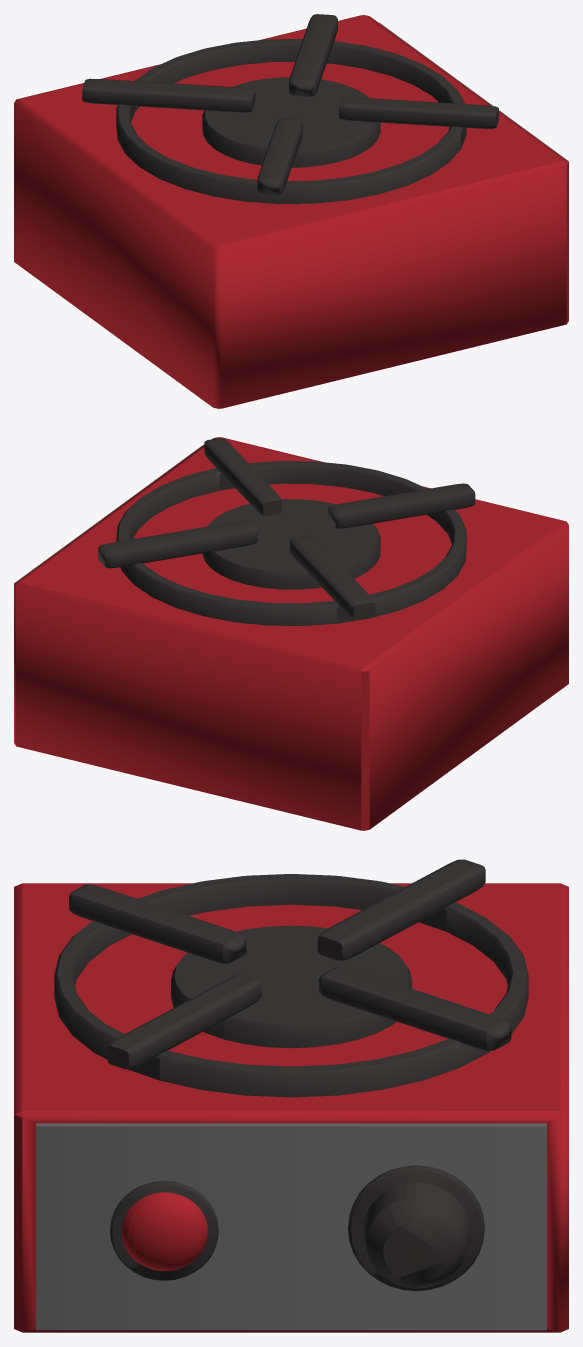
File: M6BO_Model_Stove.fbx
3 renders of one model, top to bottom at view 1: azimuth 30°, elevation 25°; view 2: azimuth 150°, elevation 25°; view 3: azimuth 270°, elevation 25°, orthographic. The views are drawn at different scales.
Visible parts, largest first — view 1: Stove; view 2: Stove; view 3: Stove.
Part boxes in pixels (left/top/right/bottom): Stove: left=14, top=14, right=568, bottom=408; Stove: left=14, top=437, right=568, bottom=830; Stove: left=14, top=859, right=568, bottom=1332.
Size of the model in its own units: 261 by 124 by 234.
